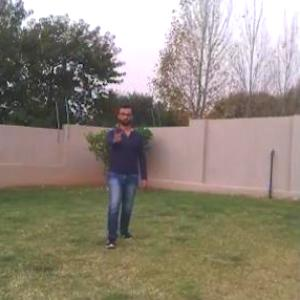takeoff-hand: (108, 124, 128, 149)
